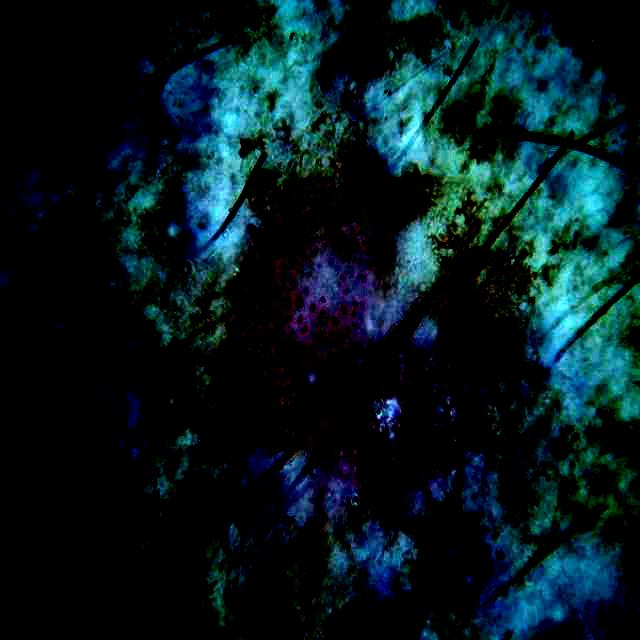AKIEC: (194, 140, 536, 629), (0, 199, 155, 636)
